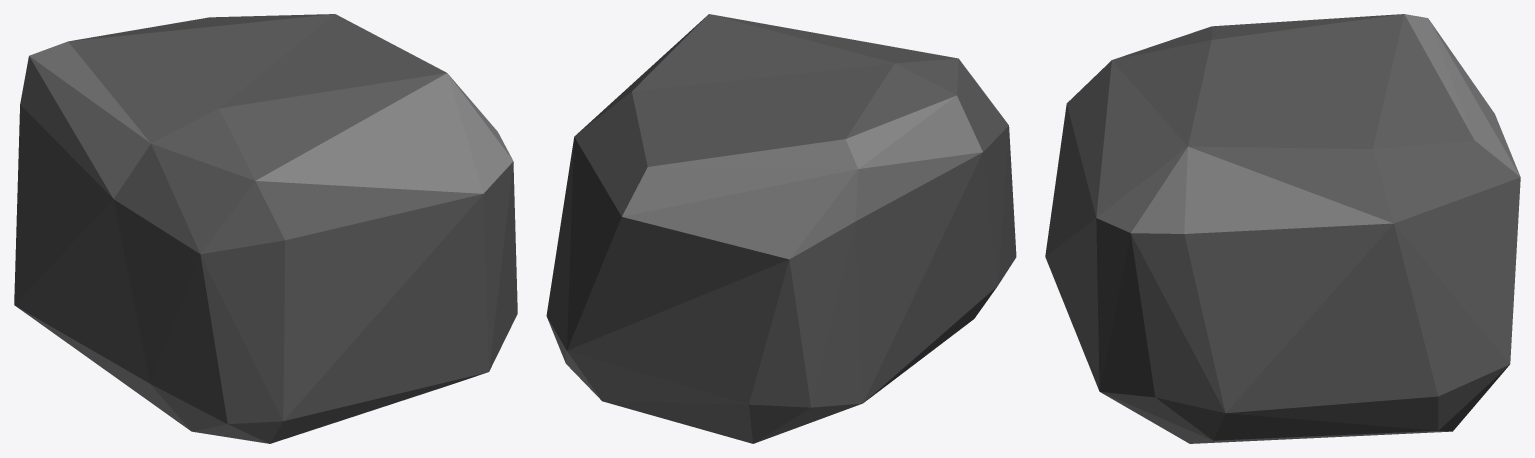
The model's file is rock_15.fbx.
The picture shows the model from 3 angles, left to right: view 1: azimuth 30°, elevation 25°; view 2: azimuth 150°, elevation 25°; view 3: azimuth 270°, elevation 25°; orthographic projection. The views are drawn at different scales.
Visible parts, largest first — view 1: rock_15; view 2: rock_15; view 3: rock_15.
Part boxes in pixels (<box>): rock_15: <box>14,14,517,443</box>; rock_15: <box>546,14,1016,443</box>; rock_15: <box>1045,14,1520,443</box>.
Size of the model in its own units: 39.73 by 30.99 by 43.47.
